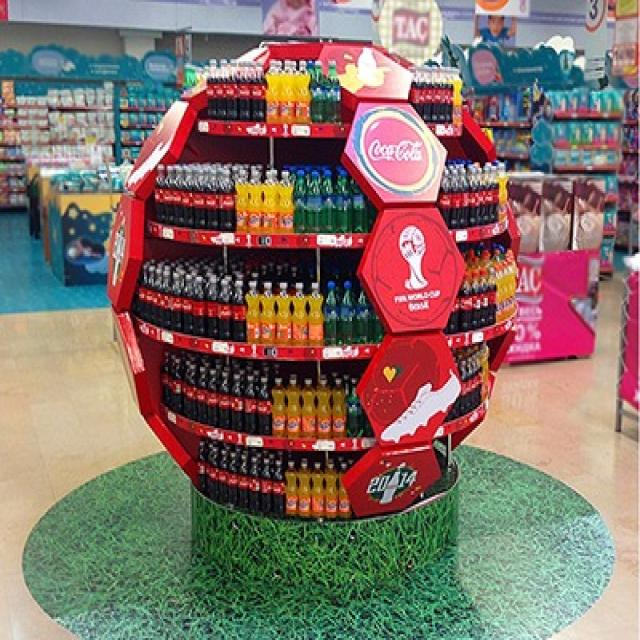coca cola: (368, 134, 436, 176)
